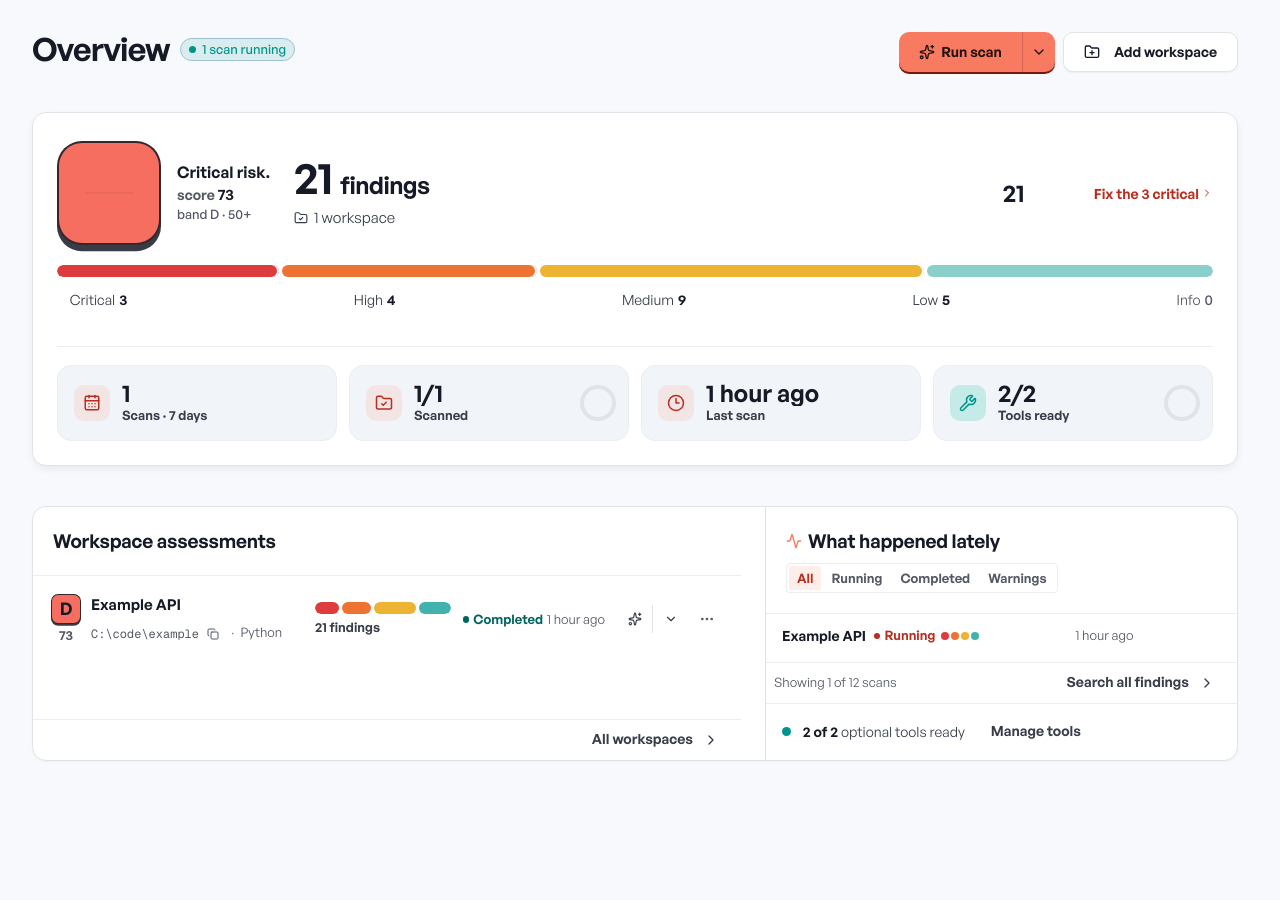
Test: HomePage risk board — feed regressions › quotes the tab label, not the raw filter key, when a filter has no matches
The width and height of the screenshot is (1280, 900).
Click the button with class "feed-filter-btn" showing "Warnings". click: (1017, 578)
box: [980,566,1054,590]
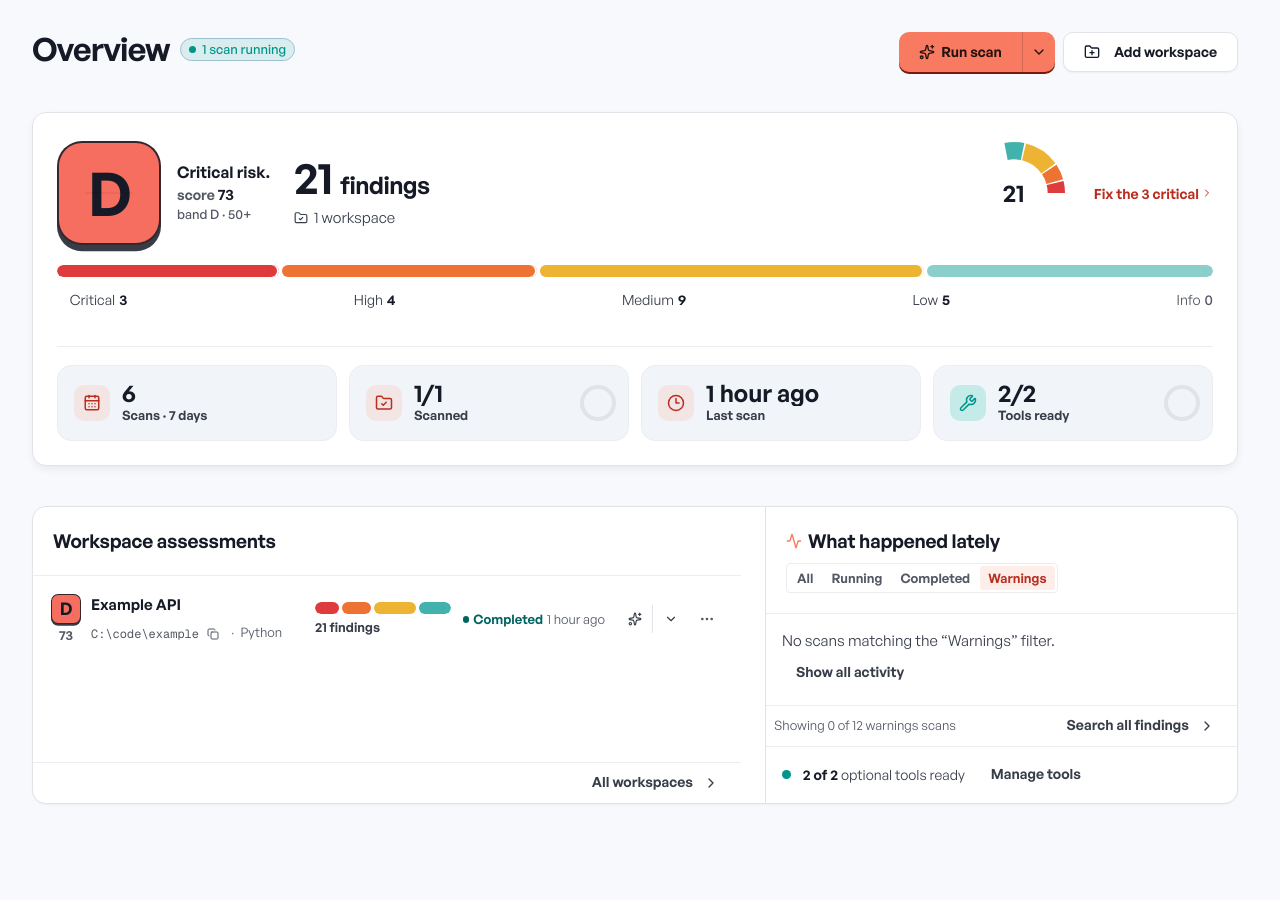
Now the element with class "board-empty-filter" shows "No scans matching the “Warnings” filter.", box [782,631,1055,689]
